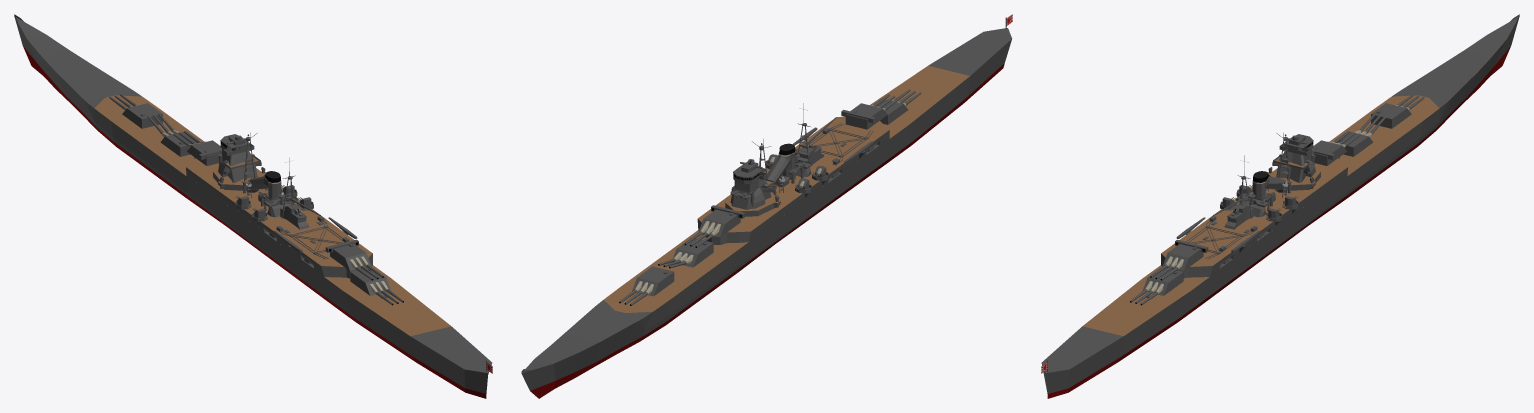
The model's file is mogami.obj.
3 views of the same model, side by side, from view 1: azimuth 30°, elevation 25°; view 2: azimuth 150°, elevation 25°; view 3: azimuth 330°, elevation 25° (orthographic). The views are drawn at different scales.
Visible parts, largest first — view 1: ShapeIndexedFaceSet_ShapeIndexedFaceSet.001, ShapeIndexedFaceSet.002_ShapeIndexedFaceSet.003, ShapeIndexedFaceSet.001_ShapeIndexedFaceSet.002, ShapeIndexedFaceSet.012_ShapeIndexedFaceSet.013, ShapeIndexedFaceSet.026_ShapeIndexedFaceSet.027, ShapeIndexedFaceSet.051_ShapeIndexedFaceSet.052, ShapeIndexedFaceSet.003_ShapeIndexedFaceSet.004, ShapeIndexedFaceSet.042_ShapeIndexedFaceSet.043, ShapeIndexedFaceSet.007_ShapeIndexedFaceSet.008, ShapeIndexedFaceSet.047_ShapeIndexedFaceSet.048, ShapeIndexedFaceSet.015_ShapeIndexedFaceSet.016, ShapeIndexedFaceSet.018_ShapeIndexedFaceSet.019 (+2 smaller); view 2: ShapeIndexedFaceSet_ShapeIndexedFaceSet.001, ShapeIndexedFaceSet.002_ShapeIndexedFaceSet.003, ShapeIndexedFaceSet.001_ShapeIndexedFaceSet.002, ShapeIndexedFaceSet.012_ShapeIndexedFaceSet.013, ShapeIndexedFaceSet.007_ShapeIndexedFaceSet.008, ShapeIndexedFaceSet.051_ShapeIndexedFaceSet.052, ShapeIndexedFaceSet.003_ShapeIndexedFaceSet.004, ShapeIndexedFaceSet.042_ShapeIndexedFaceSet.043, ShapeIndexedFaceSet.043_ShapeIndexedFaceSet.044, ShapeIndexedFaceSet.026_ShapeIndexedFaceSet.027, ShapeIndexedFaceSet.022_ShapeIndexedFaceSet.023, ShapeIndexedFaceSet.015_ShapeIndexedFaceSet.016 (+1 smaller); view 3: ShapeIndexedFaceSet_ShapeIndexedFaceSet.001, ShapeIndexedFaceSet.002_ShapeIndexedFaceSet.003, ShapeIndexedFaceSet.001_ShapeIndexedFaceSet.002, ShapeIndexedFaceSet.012_ShapeIndexedFaceSet.013, ShapeIndexedFaceSet.026_ShapeIndexedFaceSet.027, ShapeIndexedFaceSet.051_ShapeIndexedFaceSet.052, ShapeIndexedFaceSet.003_ShapeIndexedFaceSet.004, ShapeIndexedFaceSet.042_ShapeIndexedFaceSet.043, ShapeIndexedFaceSet.007_ShapeIndexedFaceSet.008, ShapeIndexedFaceSet.047_ShapeIndexedFaceSet.048, ShapeIndexedFaceSet.015_ShapeIndexedFaceSet.016, ShapeIndexedFaceSet.018_ShapeIndexedFaceSet.019 (+2 smaller).
Part boxes in pixels (box(x1,y1,x2,y2)): ShapeIndexedFaceSet_ShapeIndexedFaceSet.001: box(14, 14, 492, 393); ShapeIndexedFaceSet.002_ShapeIndexedFaceSet.003: box(94, 95, 450, 336); ShapeIndexedFaceSet.001_ShapeIndexedFaceSet.002: box(23, 46, 486, 398); ShapeIndexedFaceSet.012_ShapeIndexedFaceSet.013: box(213, 135, 265, 190); ShapeIndexedFaceSet.026_ShapeIndexedFaceSet.027: box(241, 177, 387, 298); ShapeIndexedFaceSet.051_ShapeIndexedFaceSet.052: box(325, 239, 370, 278); ShapeIndexedFaceSet.003_ShapeIndexedFaceSet.004: box(122, 103, 162, 128); ShapeIndexedFaceSet.042_ShapeIndexedFaceSet.043: box(276, 216, 349, 259); ShapeIndexedFaceSet.007_ShapeIndexedFaceSet.008: box(187, 140, 221, 165); ShapeIndexedFaceSet.047_ShapeIndexedFaceSet.048: box(350, 267, 391, 295); ShapeIndexedFaceSet.015_ShapeIndexedFaceSet.016: box(218, 134, 265, 188); ShapeIndexedFaceSet.018_ShapeIndexedFaceSet.019: box(239, 132, 320, 218); ShapeIndexedFaceSet_ShapeIndexedFaceSet.001: box(521, 17, 1012, 390); ShapeIndexedFaceSet.002_ShapeIndexedFaceSet.003: box(604, 65, 969, 312); ShapeIndexedFaceSet.001_ShapeIndexedFaceSet.002: box(530, 63, 1004, 398); ShapeIndexedFaceSet.012_ShapeIndexedFaceSet.013: box(725, 164, 780, 216); ShapeIndexedFaceSet.007_ShapeIndexedFaceSet.008: box(698, 205, 744, 244); ShapeIndexedFaceSet.051_ShapeIndexedFaceSet.052: box(841, 103, 887, 129); ShapeIndexedFaceSet.003_ShapeIndexedFaceSet.004: box(632, 266, 674, 296); ShapeIndexedFaceSet.042_ShapeIndexedFaceSet.043: box(795, 123, 873, 165); ShapeIndexedFaceSet.043_ShapeIndexedFaceSet.044: box(673, 237, 713, 267); ShapeIndexedFaceSet.026_ShapeIndexedFaceSet.027: box(773, 144, 837, 195); ShapeIndexedFaceSet.022_ShapeIndexedFaceSet.023: box(765, 152, 795, 192); ShapeIndexedFaceSet.015_ShapeIndexedFaceSet.016: box(731, 159, 779, 207); ShapeIndexedFaceSet_ShapeIndexedFaceSet.001: box(1041, 14, 1519, 393); ShapeIndexedFaceSet.002_ShapeIndexedFaceSet.003: box(1083, 95, 1439, 336); ShapeIndexedFaceSet.001_ShapeIndexedFaceSet.002: box(1047, 46, 1510, 398); ShapeIndexedFaceSet.012_ShapeIndexedFaceSet.013: box(1268, 135, 1320, 190); ShapeIndexedFaceSet.026_ShapeIndexedFaceSet.027: box(1146, 177, 1292, 298); ShapeIndexedFaceSet.051_ShapeIndexedFaceSet.052: box(1163, 239, 1208, 278); ShapeIndexedFaceSet.003_ShapeIndexedFaceSet.004: box(1371, 103, 1411, 128); ShapeIndexedFaceSet.042_ShapeIndexedFaceSet.043: box(1186, 216, 1257, 259); ShapeIndexedFaceSet.007_ShapeIndexedFaceSet.008: box(1312, 140, 1346, 165); ShapeIndexedFaceSet.047_ShapeIndexedFaceSet.048: box(1142, 267, 1183, 295); ShapeIndexedFaceSet.015_ShapeIndexedFaceSet.016: box(1268, 134, 1315, 188); ShapeIndexedFaceSet.018_ShapeIndexedFaceSet.019: box(1213, 133, 1294, 218).
Bounding box in the file's own units: 10.2 × 16.05 × 140.
